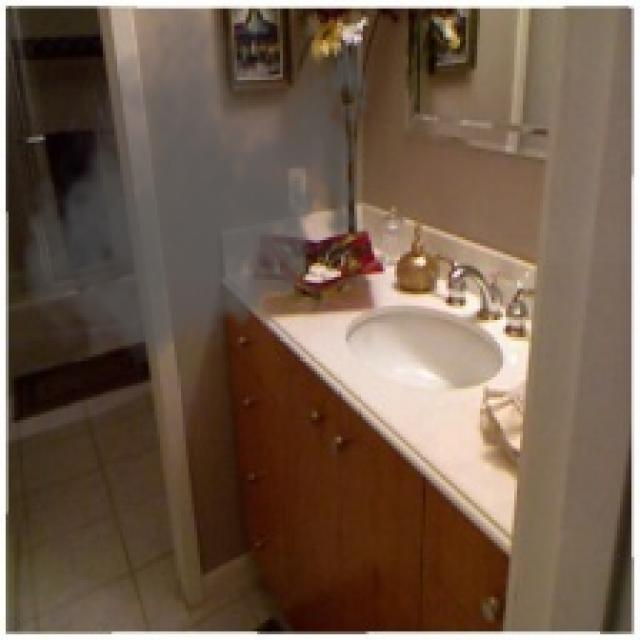smoke: (14, 9, 383, 380)
